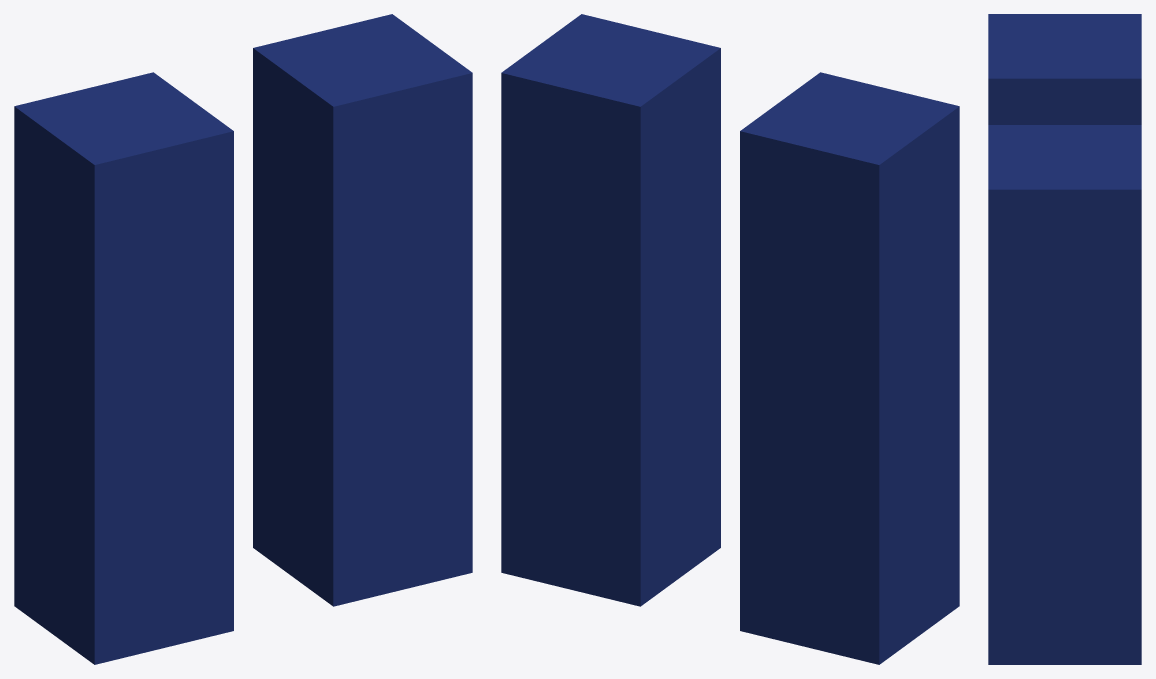
Rendered from skomma__male_nevy_blue_leg_01.glb.
3 views of the same model, side by side, from view 1: azimuth 30°, elevation 25°; view 2: azimuth 150°, elevation 25°; view 3: azimuth 270°, elevation 25° (orthographic). The views are drawn at different scales.
Visible parts, largest first — view 1: Left_Leg, Right_Leg; view 2: Left_Leg, Right_Leg; view 3: Right_Leg, Left_Leg.
Part boxes in pixels (bbox=[...]): Left_Leg: bbox=[14, 72, 233, 664]; Right_Leg: bbox=[253, 14, 472, 606]; Left_Leg: bbox=[740, 72, 959, 664]; Right_Leg: bbox=[501, 14, 720, 606]; Right_Leg: bbox=[988, 125, 1141, 664]; Left_Leg: bbox=[988, 14, 1141, 124].
Size of the model in its own units: 0.95 by 1.2 by 0.35.
